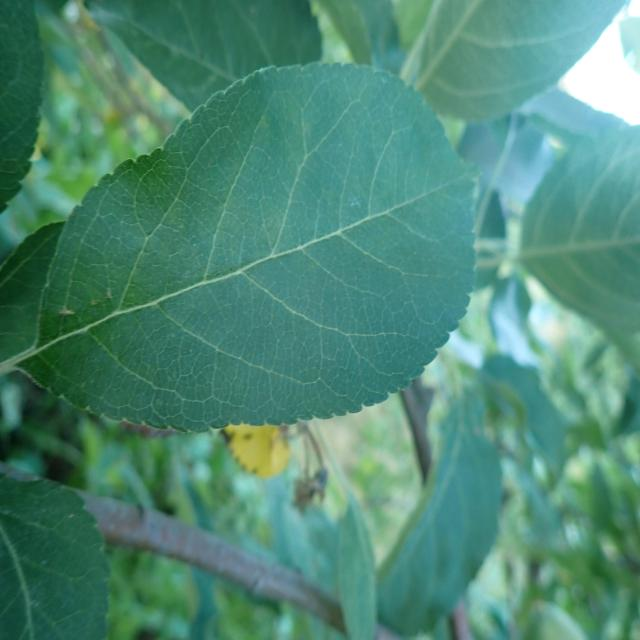healthy: (0, 58, 482, 433), (400, 0, 630, 126), (82, 0, 323, 117), (519, 126, 640, 333), (0, 471, 112, 640), (0, 0, 46, 210)
